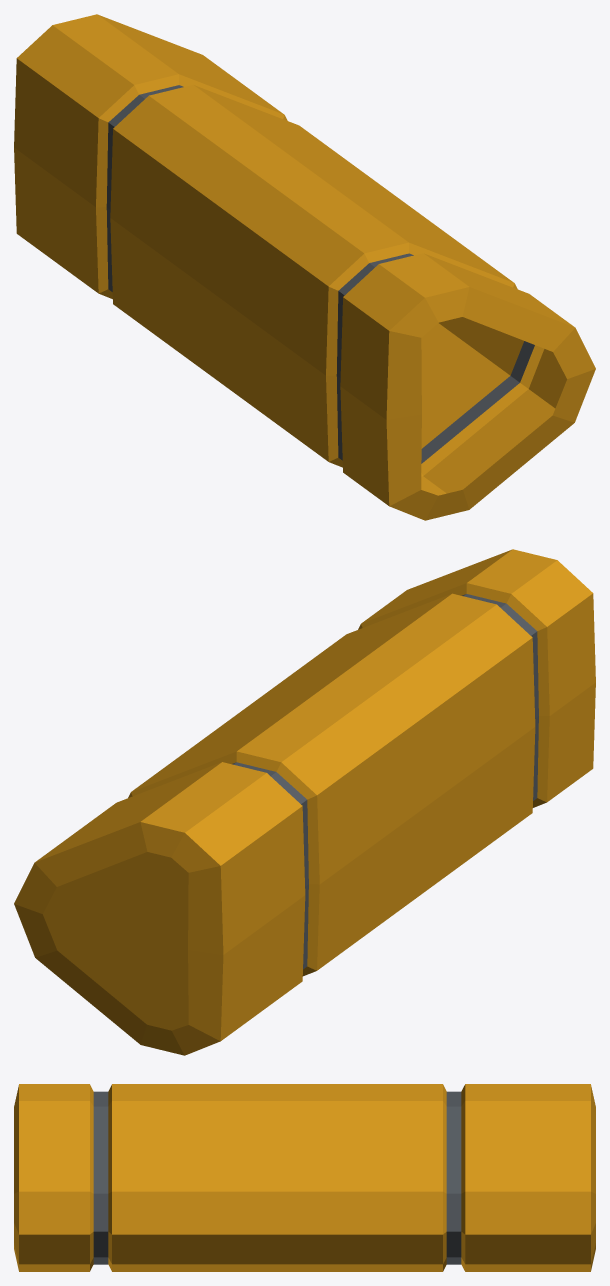
File: Mothership_02_Thrust_Struts_Yellow.fbx
3 views of the same model, one above another, from view 1: azimuth 30°, elevation 25°; view 2: azimuth 150°, elevation 25°; view 3: azimuth 270°, elevation 25° (orthographic). The views are drawn at different scales.
Visible parts, largest first — view 1: Mothership_02_Thrust_Struts_Yellow; view 2: Mothership_02_Thrust_Struts_Yellow; view 3: Mothership_02_Thrust_Struts_Yellow.
Boxes of the visible parts, x1,y1,x2,y2 form: Mothership_02_Thrust_Struts_Yellow: [14, 14, 595, 520]; Mothership_02_Thrust_Struts_Yellow: [14, 549, 595, 1055]; Mothership_02_Thrust_Struts_Yellow: [14, 1084, 595, 1271].
Bounding box in the file's own units: 400 × 407 × 1255.
1 material, 1 textured.
